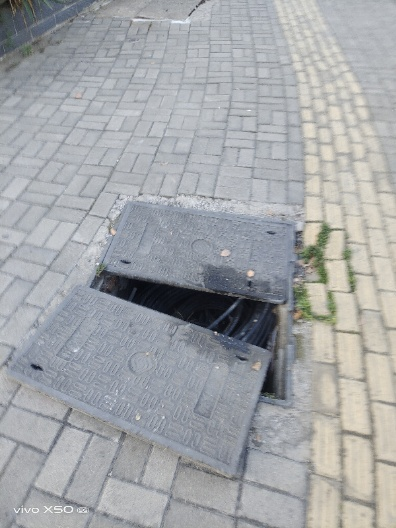uncovered: (10, 197, 297, 485)
